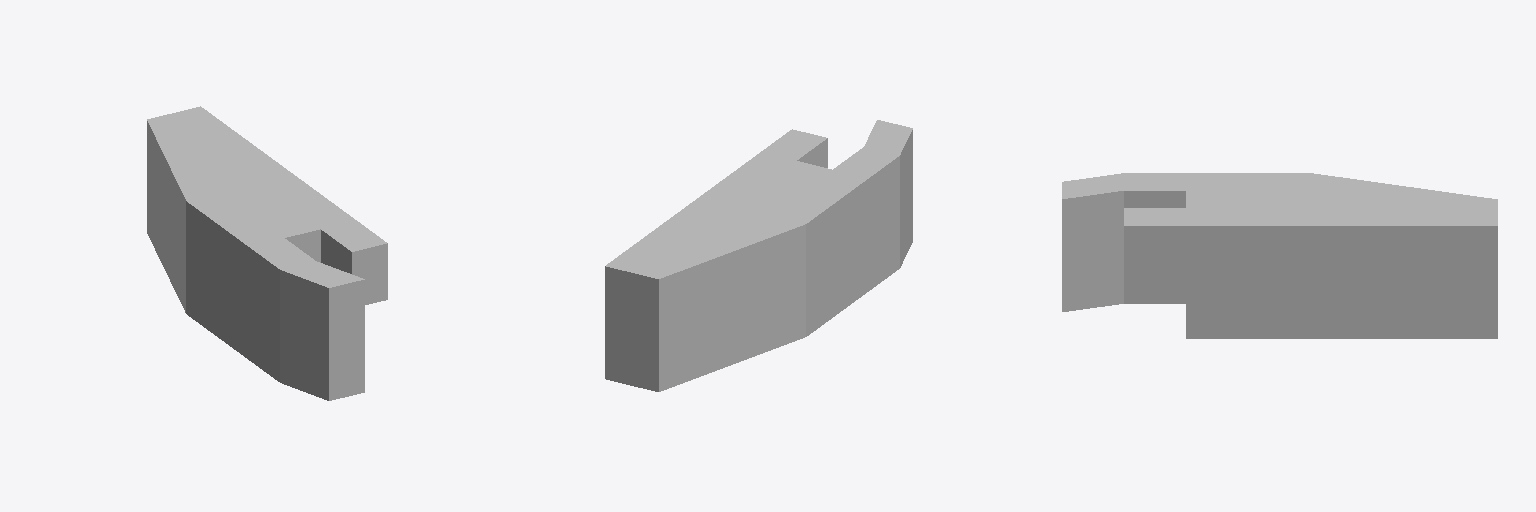
Rendered from ArmRight1.obj.
3 views of the same model, side by side, from view 1: azimuth 30°, elevation 25°; view 2: azimuth 150°, elevation 25°; view 3: azimuth 270°, elevation 25° (orthographic).
Parts seen in each view (by area): view 1: ArmRight1.003_ArmRight1; view 2: ArmRight1.003_ArmRight1; view 3: ArmRight1.003_ArmRight1.
Boxes of the visible parts, <box> form: ArmRight1.003_ArmRight1: <box>147,106,387,400</box>; ArmRight1.003_ArmRight1: <box>605,120,912,391</box>; ArmRight1.003_ArmRight1: <box>1062,173,1497,338</box>.
Bounding box in the file's own units: 20 × 20 × 70.